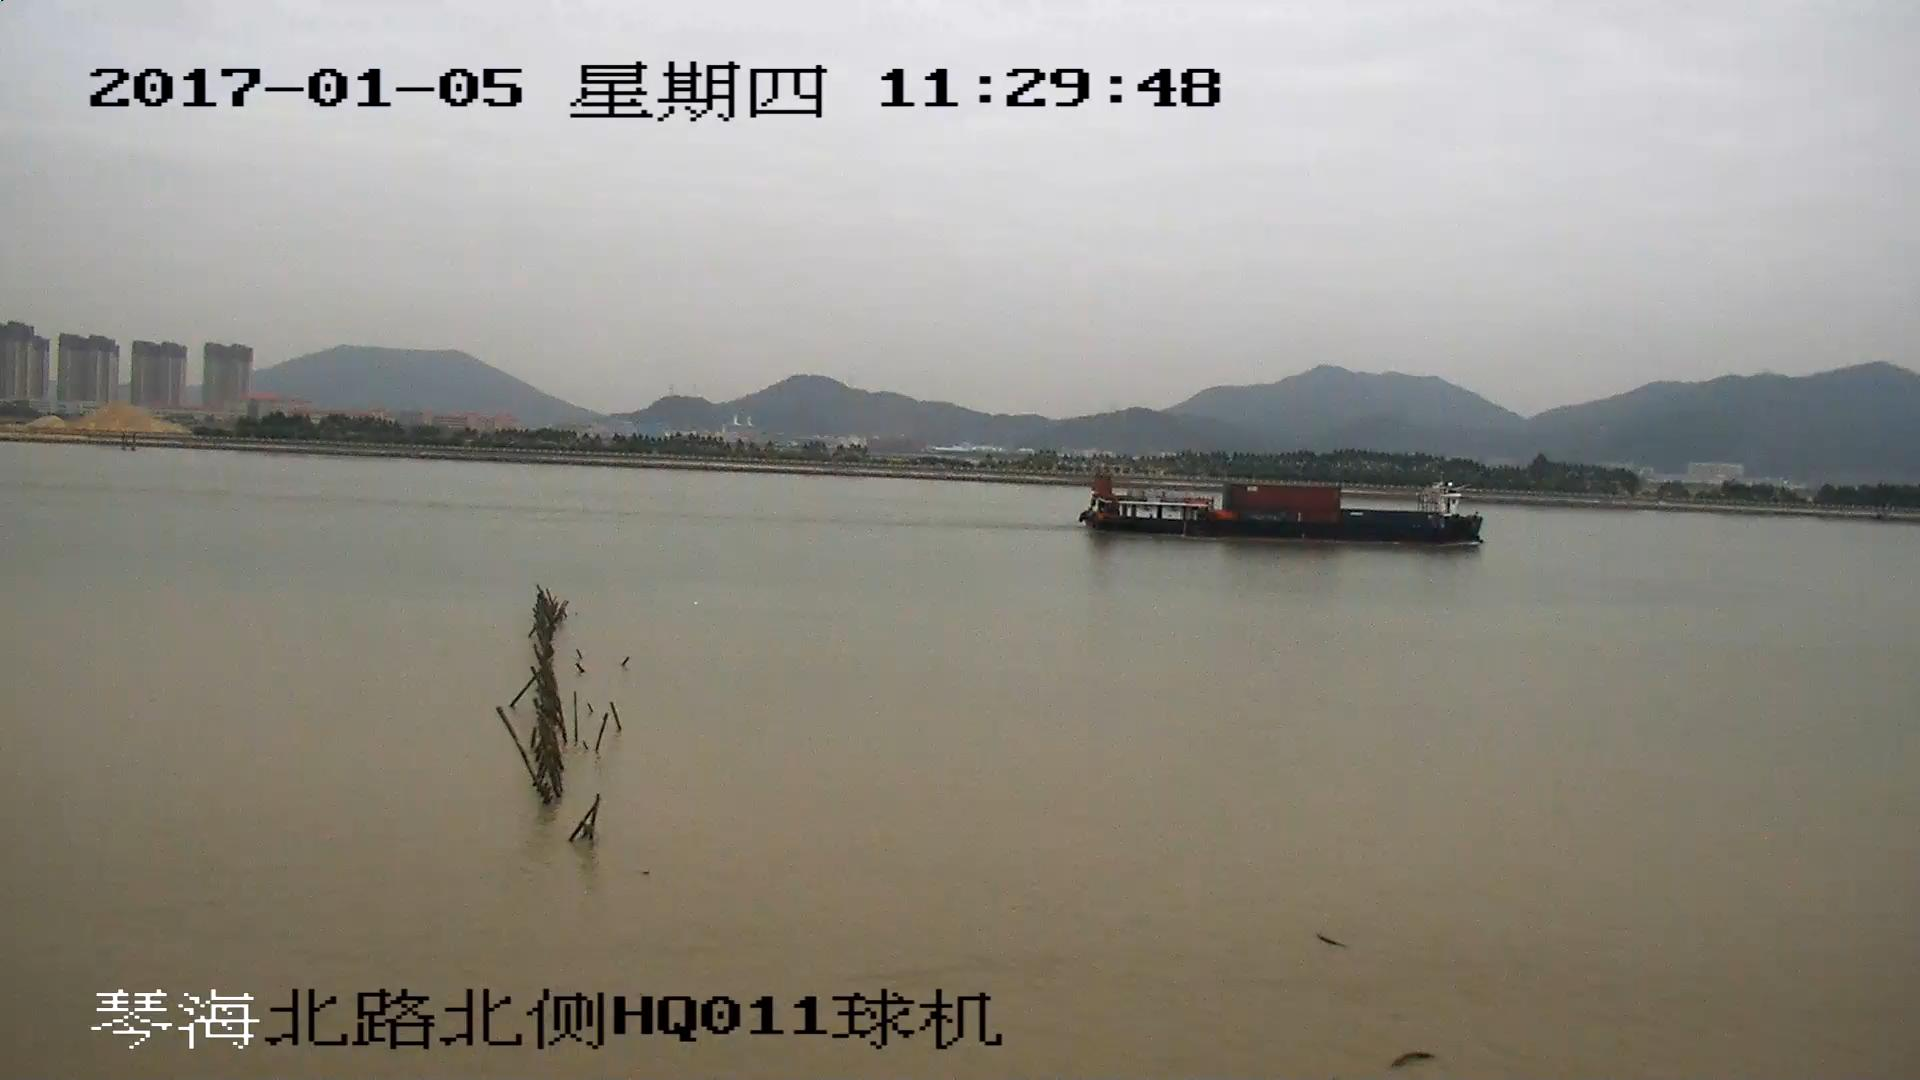container ship: (1083, 469, 1480, 545)
